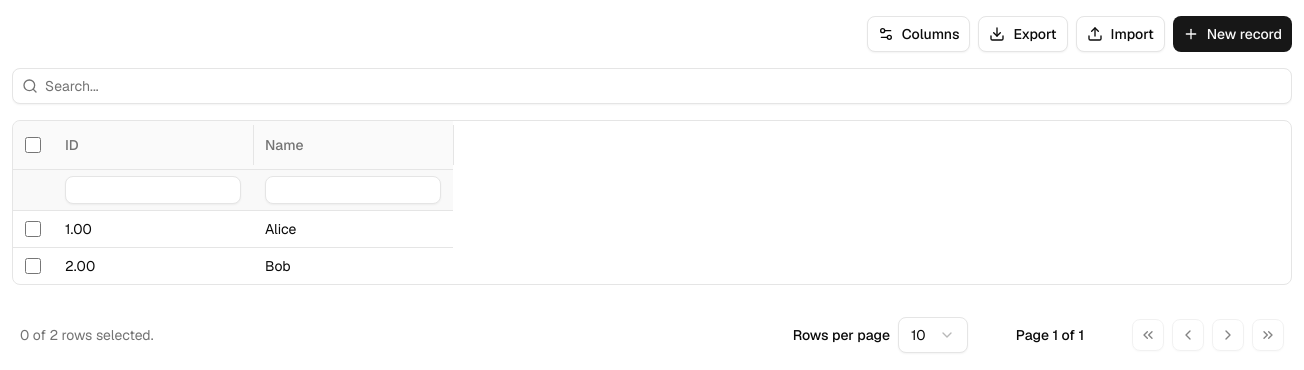
Test case: TsTable › filters data when search input is used
The width and height of the screenshot is (1304, 370).
Type "Alice" into the field with placeholder "Search..." at x=652, y=86, box [12,68,1292,104]
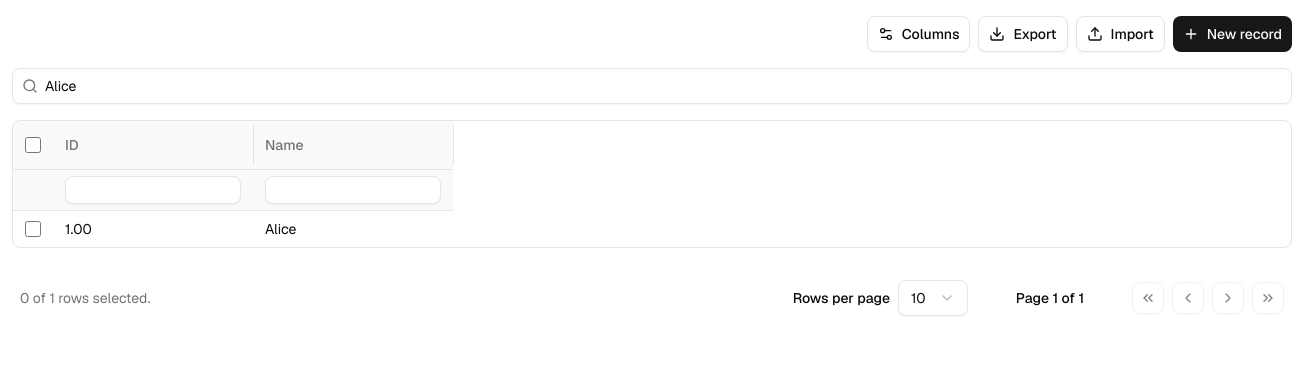
Expected: the text "Alice" is shown, [265,219,296,239]
Expected: the text "Bob" is gone
